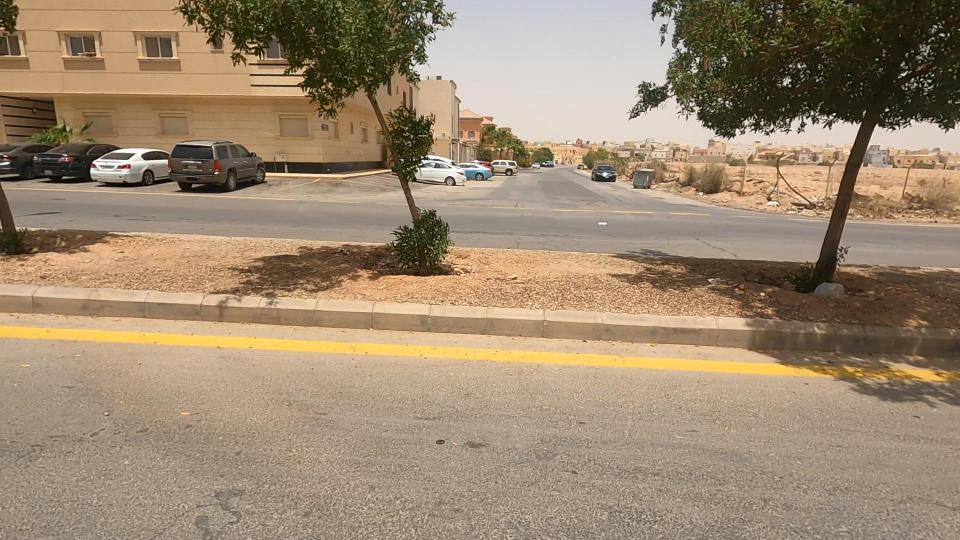GARBAGE: (758, 219, 884, 335), (743, 187, 809, 225), (577, 212, 631, 240)
